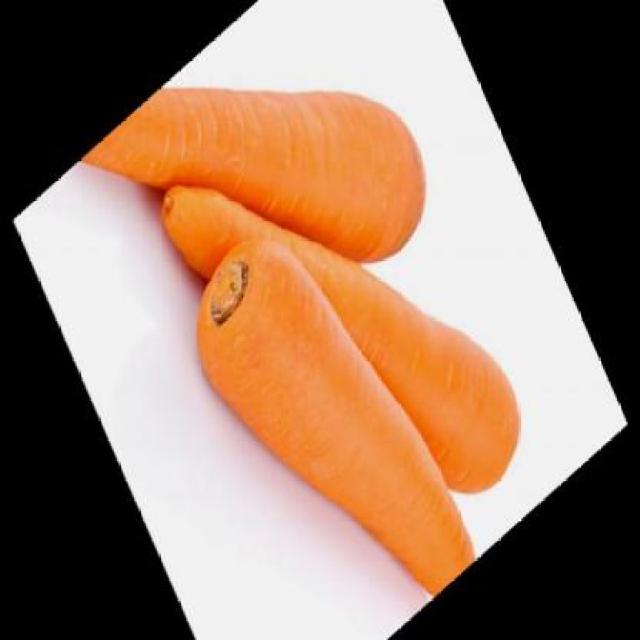carrot: (152, 21, 537, 624), (75, 0, 447, 437), (172, 171, 478, 638)
